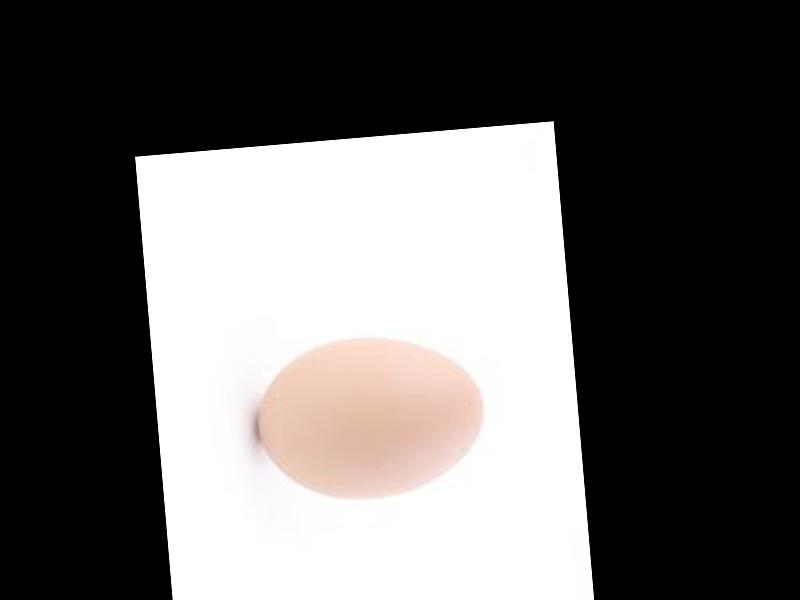Eggs: (252, 330, 492, 509)
